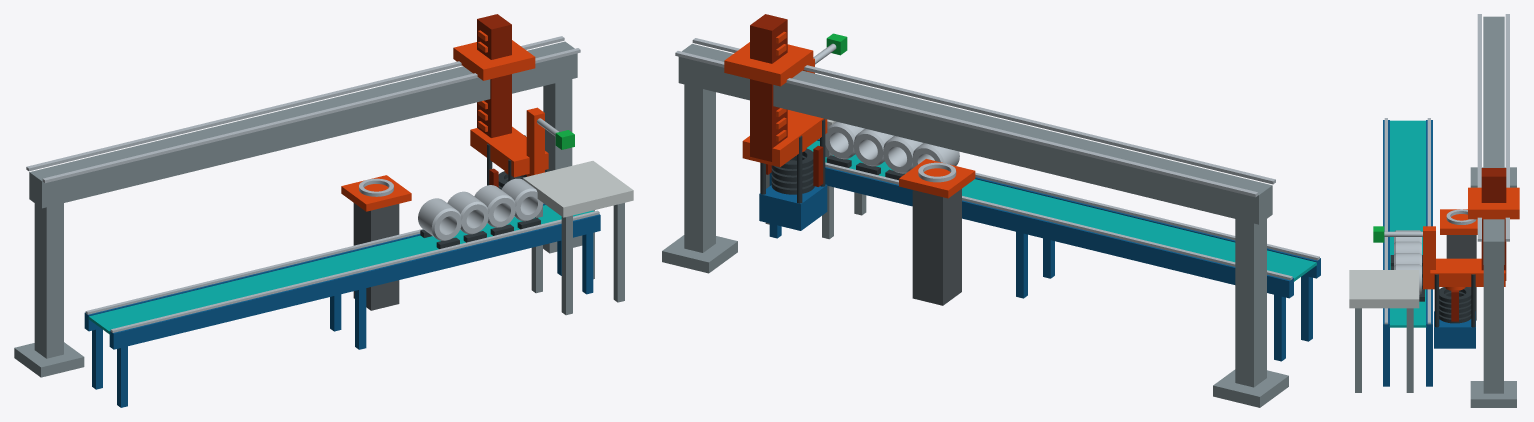
The model's file is bearing_feed_module.dae.
3 renders of one model, left to right at view 1: azimuth 30°, elevation 25°; view 2: azimuth 150°, elevation 25°; view 3: azimuth 270°, elevation 25°, orthographic. The views are drawn at different scales.
Parts seen in each view (by area): view 1: bearing_feed_module; view 2: bearing_feed_module; view 3: bearing_feed_module.
Part boxes in pixels (box(x1,y1,x2,y2)): bearing_feed_module: box(14, 14, 633, 407); bearing_feed_module: box(662, 14, 1320, 407); bearing_feed_module: box(1349, 14, 1519, 407).
Size of the model in its own units: 5.1 by 1.58 by 2.05.
